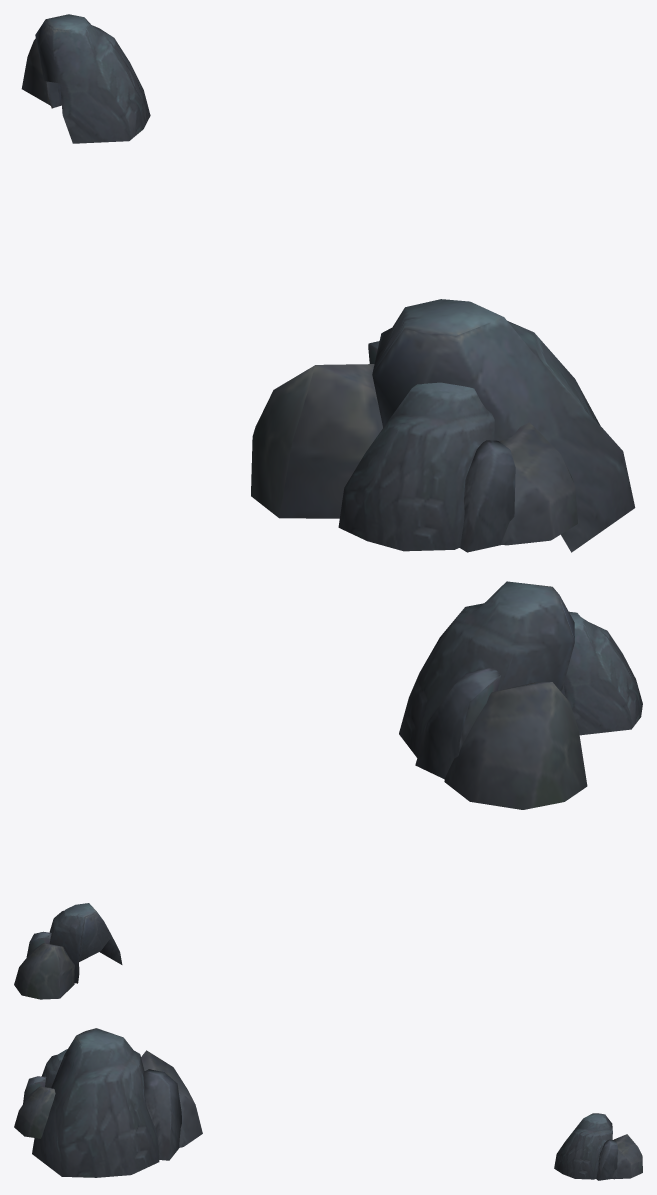
Rendered from Area_09_36.fbx.
3 views of the same model, one above another, from view 1: azimuth 30°, elevation 25°; view 2: azimuth 150°, elevation 25°; view 3: azimuth 270°, elevation 25° (orthographic). The views are drawn at different scales.
Visible parts, largest first — view 1: Area_09_36; view 2: Area_09_36; view 3: Area_09_36.
Part boxes in pixels (x1=…): Area_09_36: x1=21, y1=14, x2=635, y2=552; Area_09_36: x1=14, y1=581, x2=642, y2=999; Area_09_36: x1=14, y1=1028, x2=642, y2=1180.
Size of the model in its own units: 740 by 469 by 2569.
